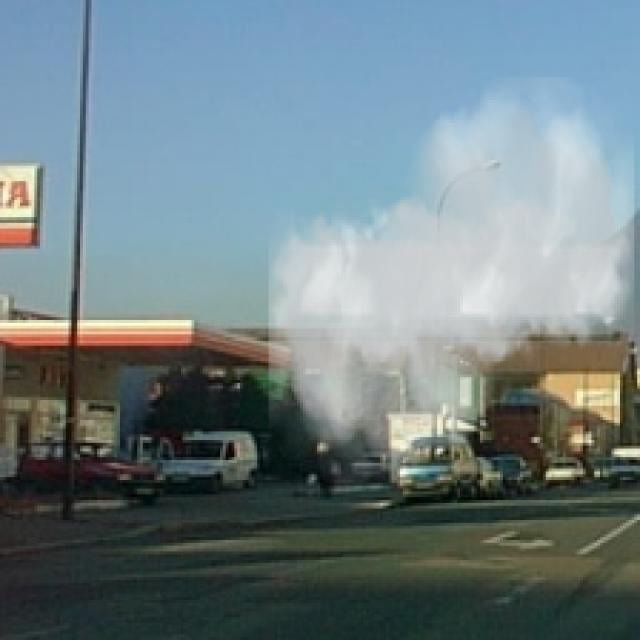smoke: (269, 77, 634, 483)
